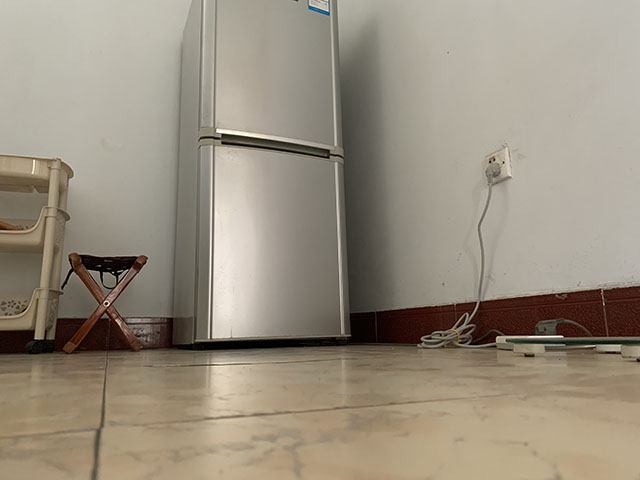stool: (60, 250, 148, 355)
wire: (414, 162, 595, 350)
